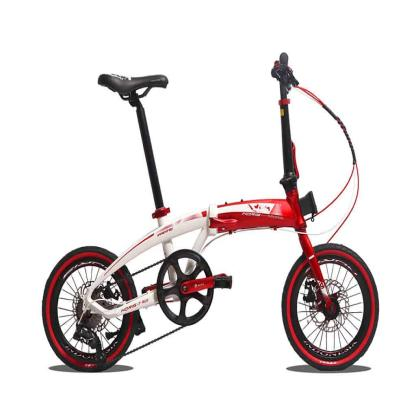Bike: (38, 59, 380, 372)
